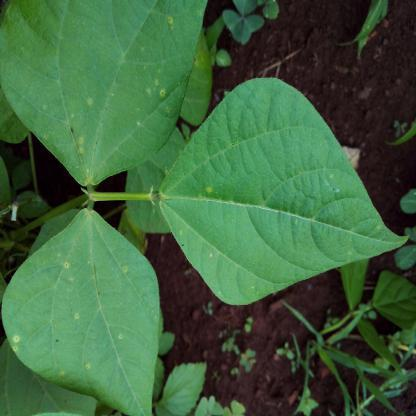Beans_Rust: (156, 78, 408, 304), (0, 0, 207, 185), (0, 207, 156, 415)
